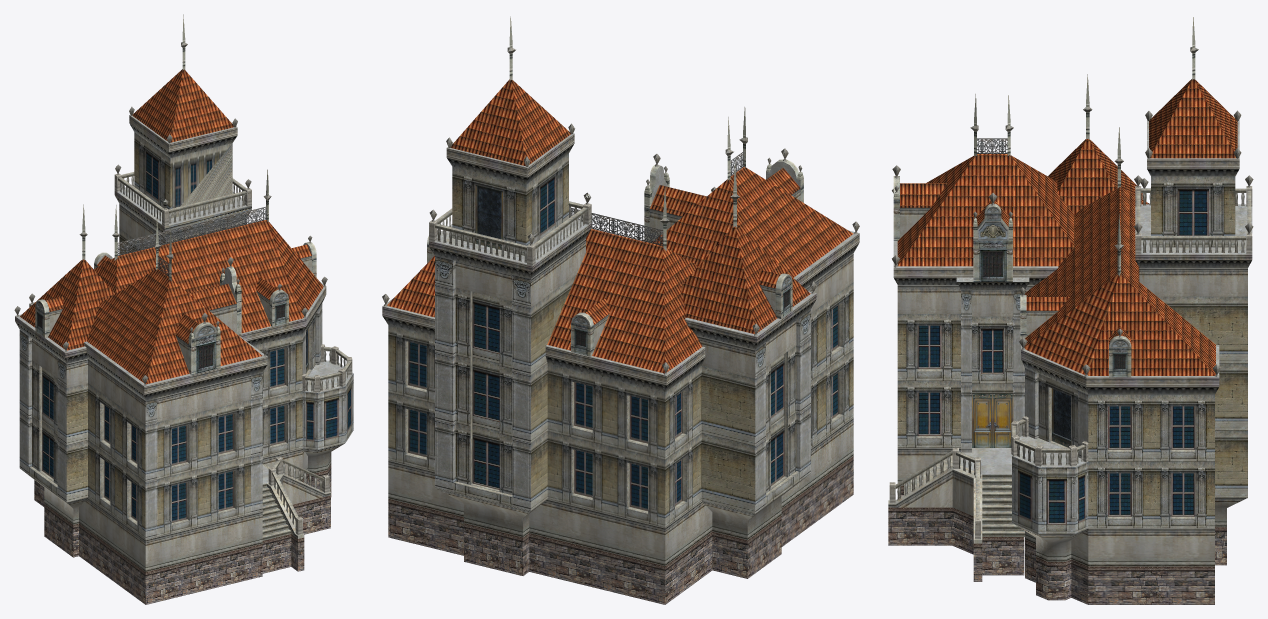
File: rd_vil9.glb
3 renders of one model, left to right at view 1: azimuth 30°, elevation 25°; view 2: azimuth 150°, elevation 25°; view 3: azimuth 270°, elevation 25°, orthographic. The views are drawn at different scales.
Parts seen in each view (by area): view 1: rd_vil9; view 2: rd_vil9; view 3: rd_vil9.
Part boxes in pixels (<box>): rd_vil9: <box>14,14,353,604</box>; rd_vil9: <box>382,16,859,604</box>; rd_vil9: <box>888,17,1253,604</box>.
Bounding box in the file's own units: 25.09 × 37.44 × 23.08.
12 materials, 12 textured.
